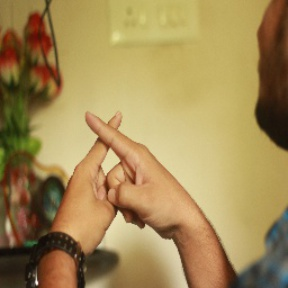X: (65, 90, 158, 196)
